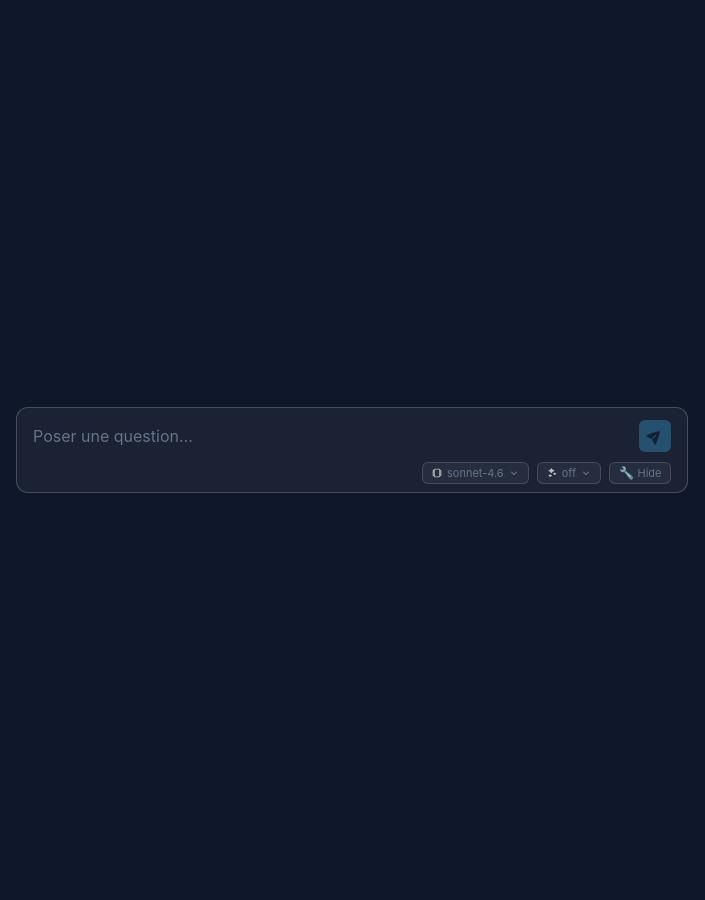
it: ChatView › shows an accessible error alert when runAgent rejects
Type "Hello" into the text box named "Message" at coordinates (332, 436), box [33, 420, 631, 452]
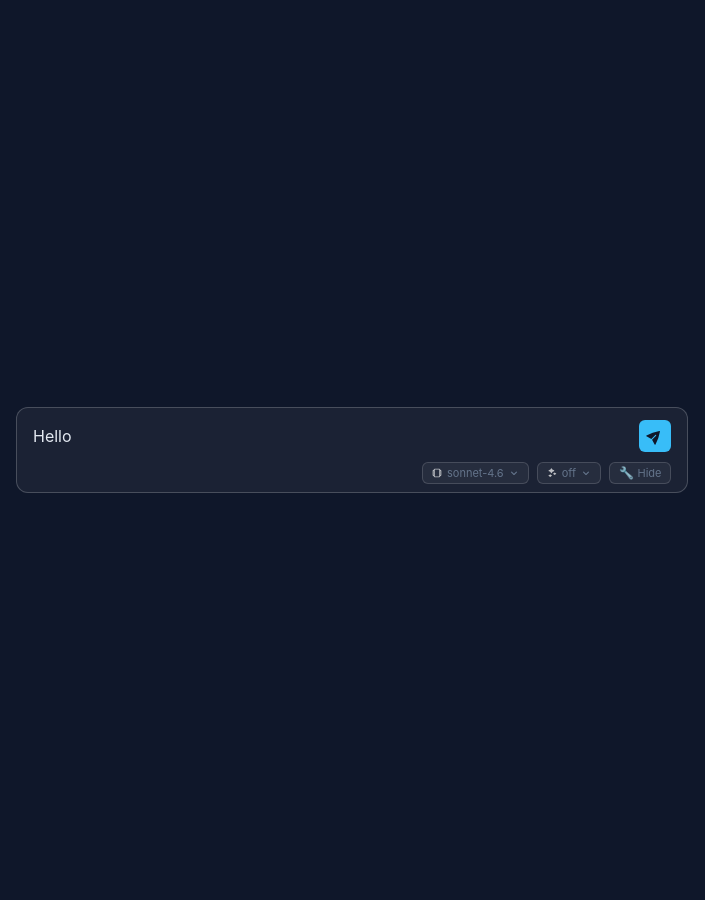
Click the button named "Envoyer" at coordinates (655, 436), box [639, 420, 671, 452]
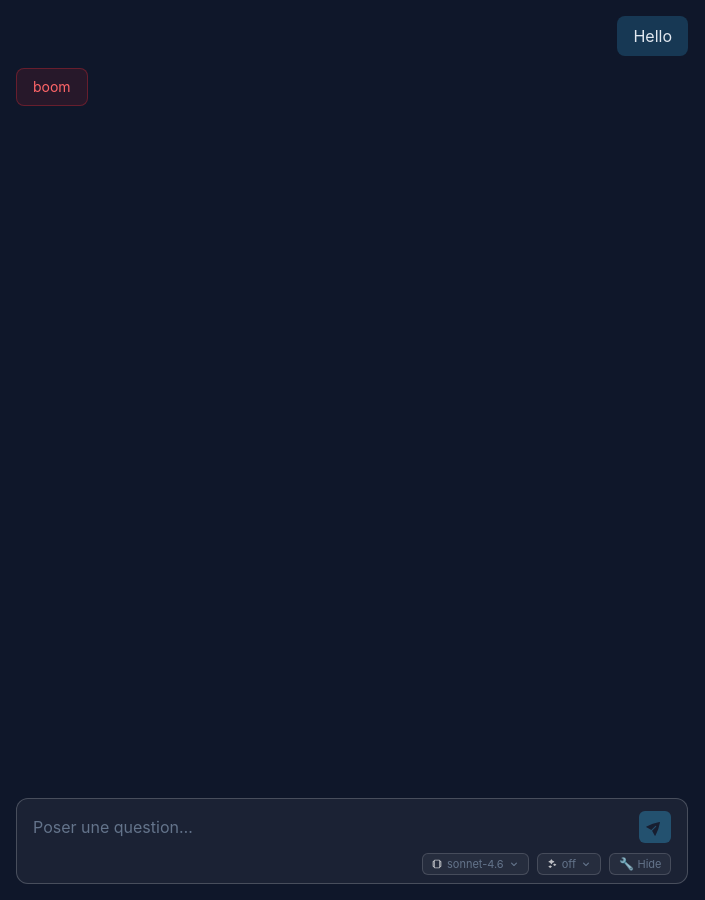
Expected: the message reads "boom", [33, 78, 71, 95]
